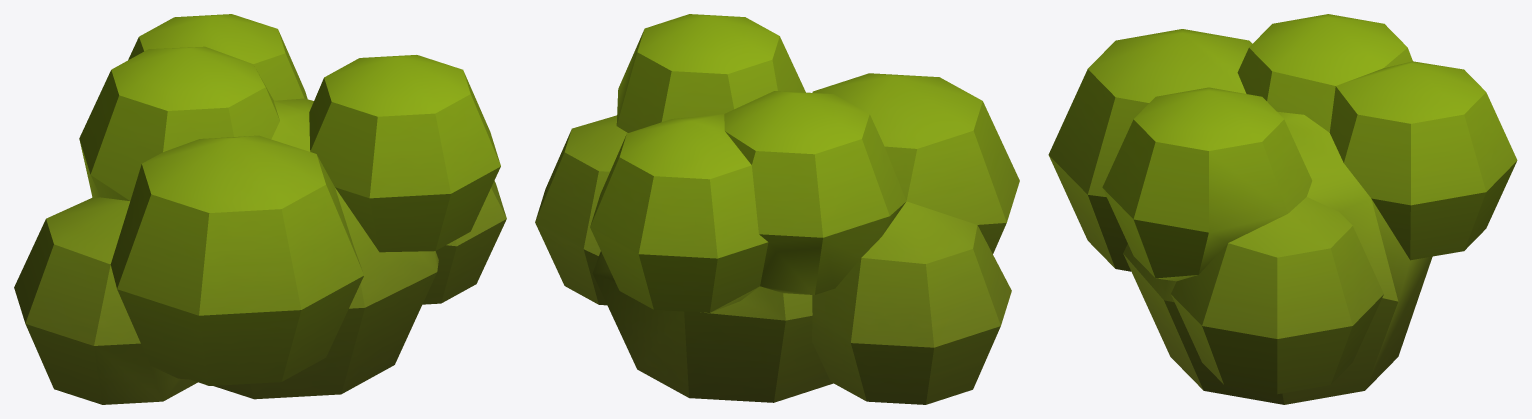
Rendered from Bush_Foliage.fbx.
3 views of the same model, side by side, from view 1: azimuth 30°, elevation 25°; view 2: azimuth 150°, elevation 25°; view 3: azimuth 270°, elevation 25° (orthographic). The views are drawn at different scales.
Visible parts, largest first — view 1: Bush_Foliage; view 2: Bush_Foliage; view 3: Bush_Foliage.
Part boxes in pixels (box(x1,y1,x2,y2)): Bush_Foliage: box(14, 14, 506, 404); Bush_Foliage: box(535, 14, 1019, 404); Bush_Foliage: box(1048, 14, 1517, 404).
Bounding box in the file's own units: 215 × 153 × 187.
